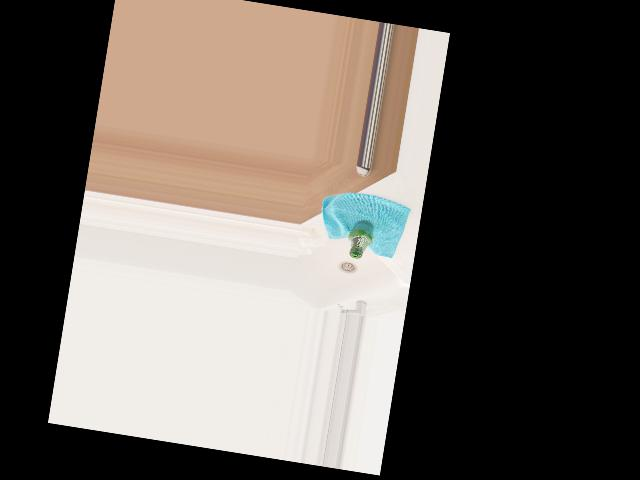beer: (345, 217, 375, 260)
